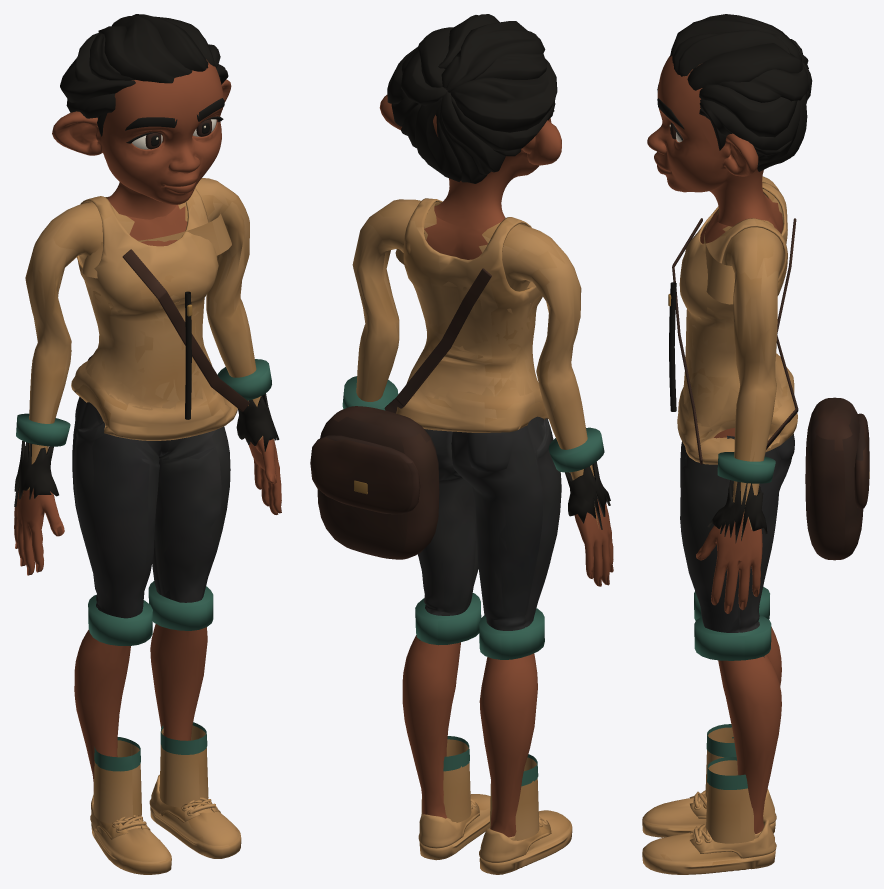
The model's file is dawa-v1.glb.
3 views of the same model, side by side, from view 1: azimuth 30°, elevation 25°; view 2: azimuth 150°, elevation 25°; view 3: azimuth 270°, elevation 25° (orthographic).
Visible parts, largest first — view 1: DawaV1.StandingResident; view 2: DawaV1.StandingResident; view 3: DawaV1.StandingResident.
Boxes of the visible parts, x1,y1,x2,y2 form: DawaV1.StandingResident: (14,14,281,874); DawaV1.StandingResident: (310,14,613,874); DawaV1.StandingResident: (642,14,869,874).
Bounding box in the file's own units: 0.4823 × 1.46 × 0.3658.
9 materials, 4 textured.
